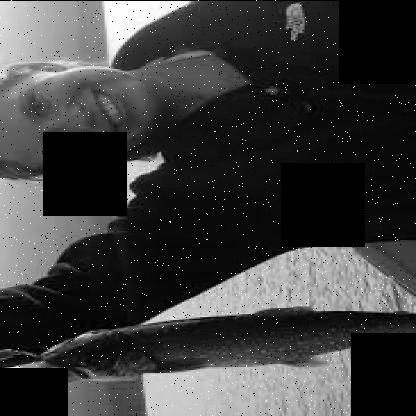fish: (34, 302, 414, 388)
